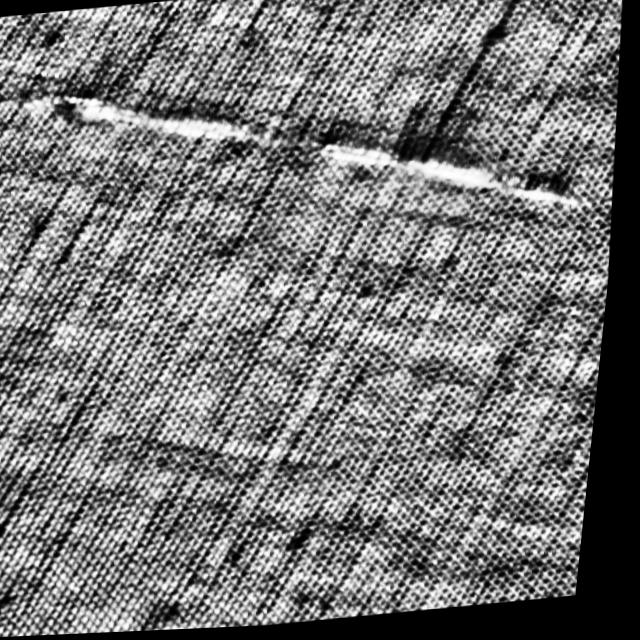Stitch: (28, 47, 618, 268)
